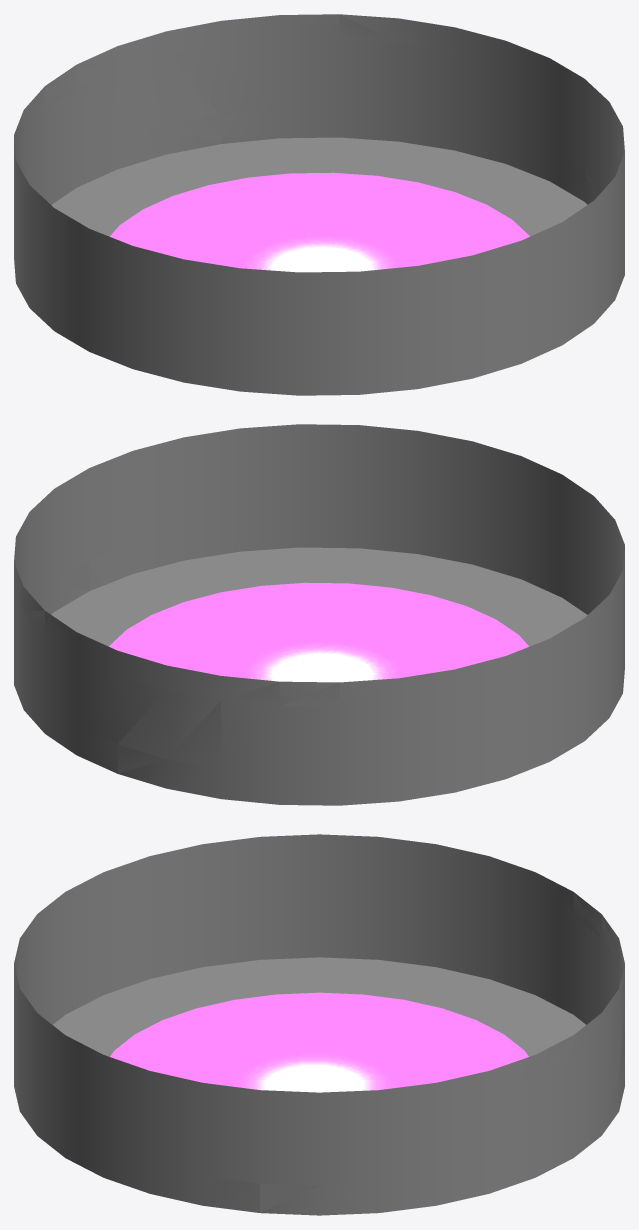
The model's file is PotLight.FBX.
The picture shows the model from 3 angles, top to bottom: view 1: azimuth 30°, elevation 25°; view 2: azimuth 150°, elevation 25°; view 3: azimuth 270°, elevation 25°; orthographic projection.
Parts seen in each view (by area): view 1: PotLight; view 2: PotLight; view 3: PotLight.
Boxes of the visible parts, x1,y1,x2,y2 form: PotLight: (14,14,624,395); PotLight: (14,424,624,805); PotLight: (14,834,624,1215).
Bounding box in the file's own units: 0.2251 × 0.05 × 0.2251.
